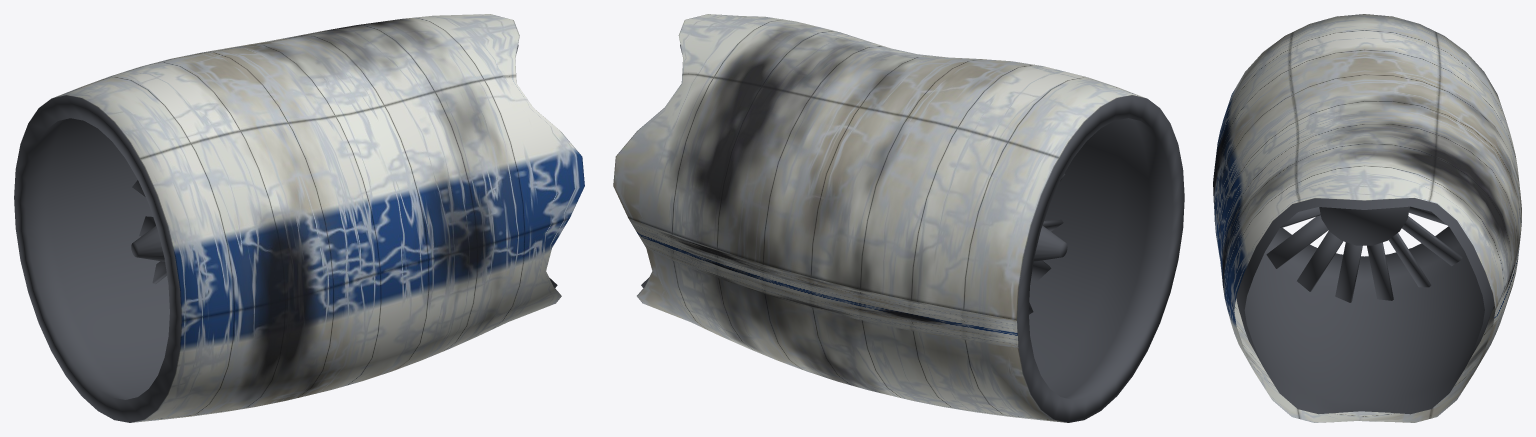
File: plane_engine.glb
3 views of the same model, side by side, from view 1: azimuth 30°, elevation 25°; view 2: azimuth 150°, elevation 25°; view 3: azimuth 270°, elevation 25° (orthographic). The views are drawn at different scales.
Visible parts, largest first — view 1: plane_engine; view 2: plane_engine; view 3: plane_engine.
Part boxes in pixels (<box>): plane_engine: <box>14,14,584,422</box>; plane_engine: <box>613,14,1184,422</box>; plane_engine: <box>1213,14,1521,422</box>.
Size of what is drawn, in the model's own units: 2.52 by 1.88 by 1.89.
Materials: 2 (2 with a texture image).
